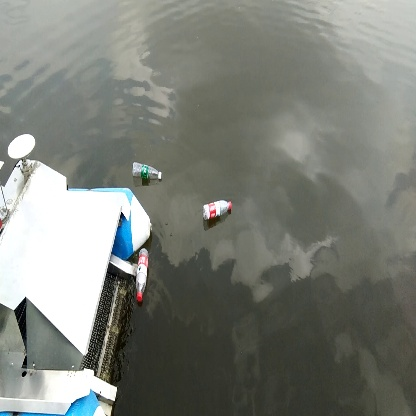bottle: (202, 198, 237, 226), (128, 159, 167, 184)
